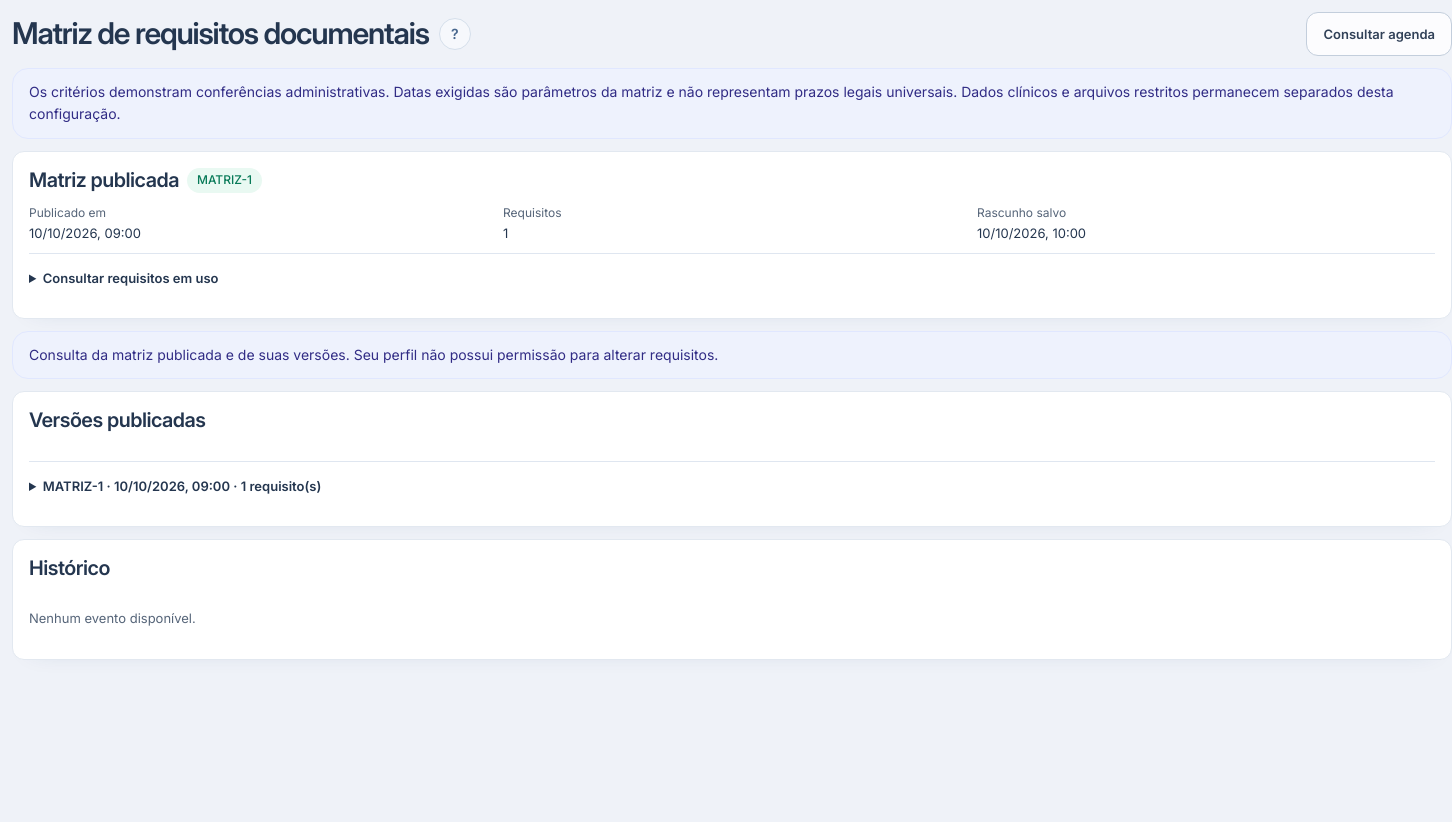
Test: matriz de requisitos por unidade › consulta publicada e versões sem edição ou descrição clínica de regra restrita
Click the heading "Consultar requisitos em uso". click: (131, 278)
box: [43,270,219,286]
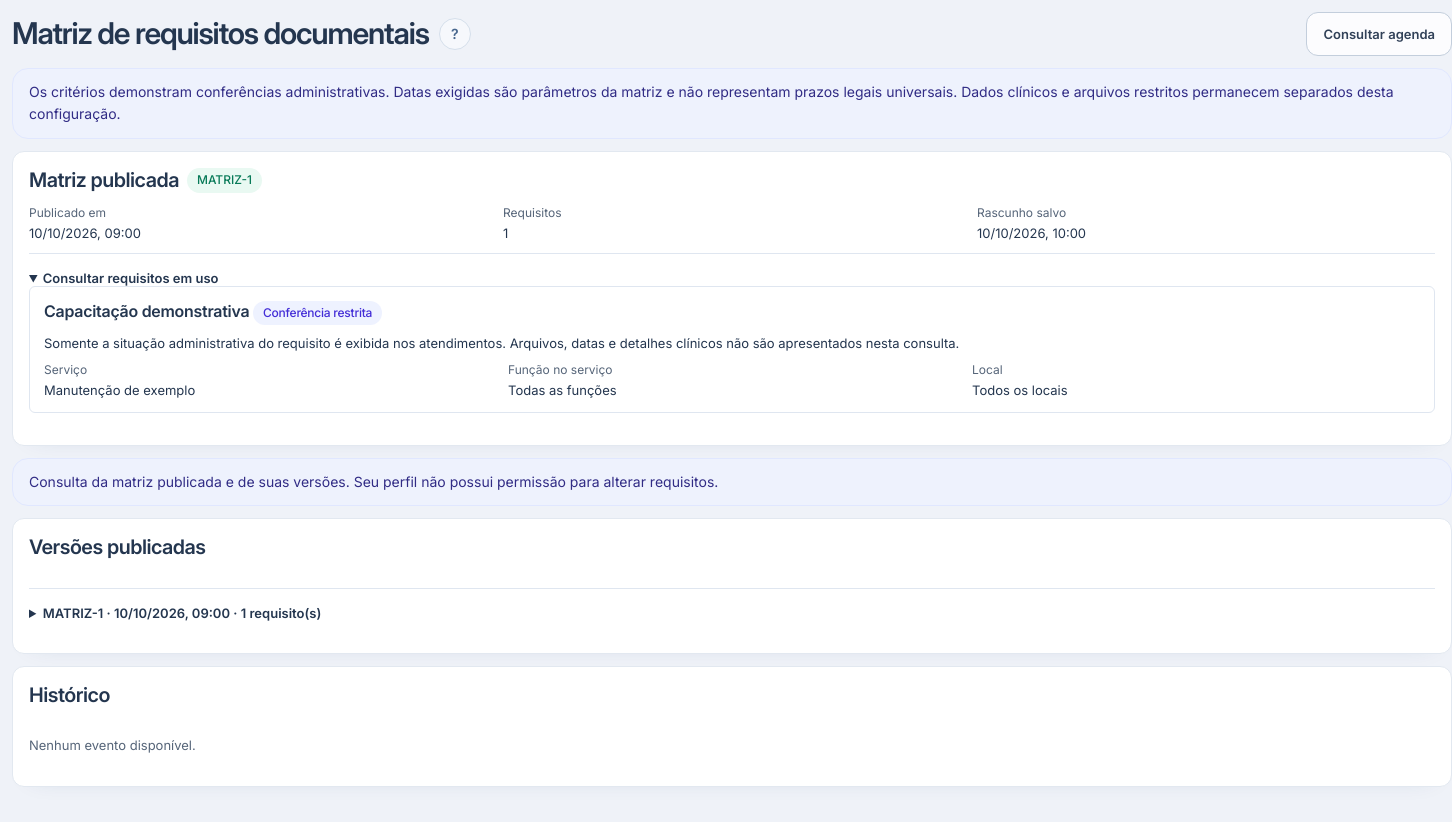
Expected: the element named "Versões da matriz" is shown, [12,518,1451,654]
Result: the text "Somente a situação administrativa" is shown at [44,335,959,351]
